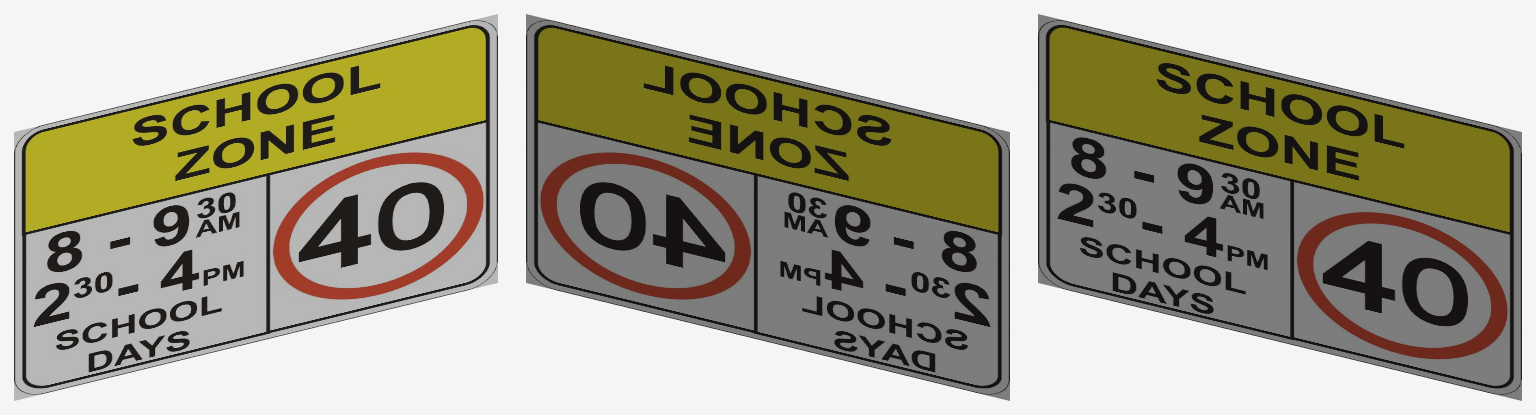
File: scSign.FBX
The picture shows the model from 3 angles, left to right: view 1: azimuth 30°, elevation 25°; view 2: azimuth 150°, elevation 25°; view 3: azimuth 330°, elevation 25°; orthographic projection.
Visible parts, largest first — view 1: Plane001; view 2: Plane001; view 3: Plane001.
Part boxes in pixels (x1,y1,x2,y2): Plane001: (14,14,497,400); Plane001: (526,14,1009,400); Plane001: (1038,14,1521,400).
Size of the model in its own units: 1012 by 538 by 6.41e-05.
